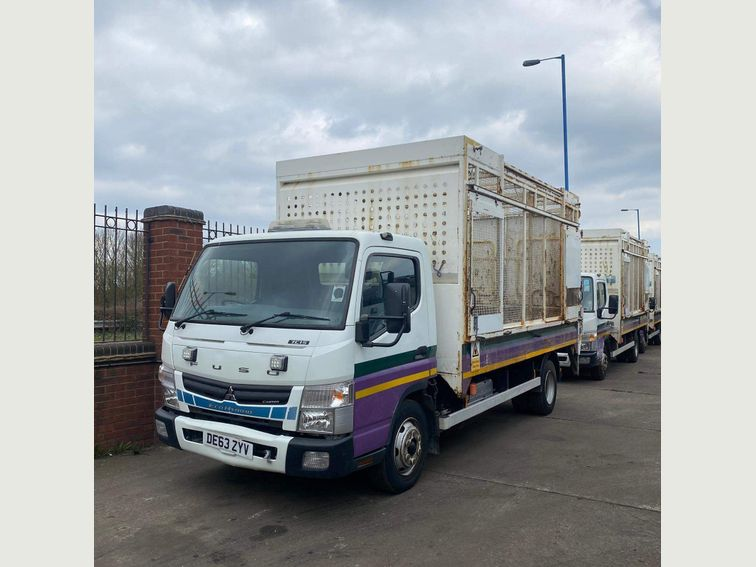Semi: (153, 135, 580, 492)
